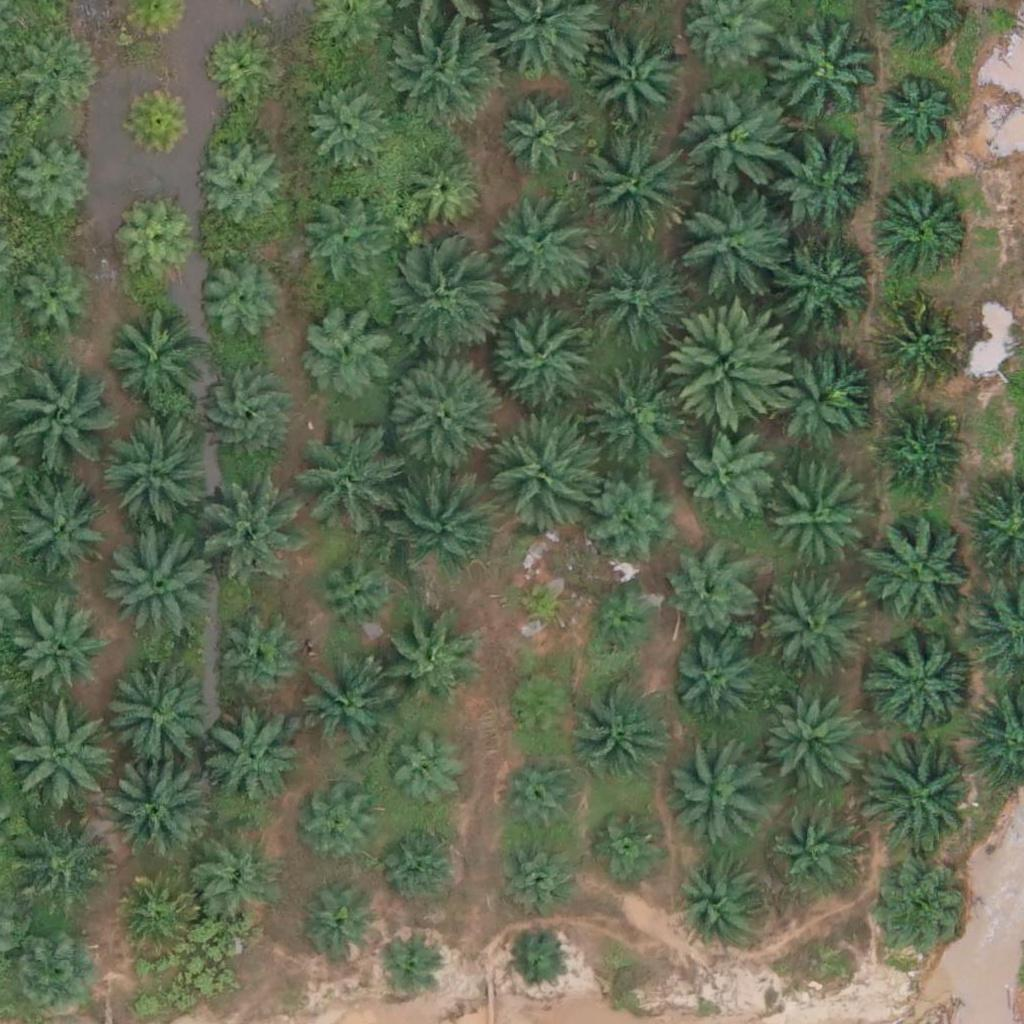Kelapa_Sawit: (671, 304, 796, 430), (673, 182, 786, 296), (97, 525, 210, 639), (863, 514, 976, 627), (867, 625, 980, 738), (575, 130, 688, 243), (579, 242, 692, 355), (486, 297, 599, 410), (383, 358, 496, 471), (102, 752, 215, 865), (94, 656, 207, 769), (767, 13, 880, 126), (390, 15, 503, 128), (680, 88, 793, 201), (383, 460, 495, 574), (100, 421, 212, 535), (2, 698, 114, 812), (866, 737, 978, 850), (479, 198, 591, 311), (484, 415, 596, 528), (381, 249, 493, 362), (194, 466, 306, 579), (873, 175, 973, 276), (869, 864, 969, 965), (780, 234, 880, 335), (766, 471, 866, 572), (761, 583, 861, 684), (757, 691, 857, 792), (583, 363, 683, 464), (585, 464, 685, 565), (377, 612, 477, 713), (291, 661, 391, 762), (291, 433, 391, 534), (201, 709, 301, 810), (104, 309, 204, 410), (7, 477, 107, 578), (9, 814, 109, 915), (586, 27, 686, 128), (576, 678, 676, 779), (775, 141, 875, 241), (765, 341, 865, 441), (668, 743, 768, 843), (298, 299, 398, 399), (196, 367, 296, 467), (872, 299, 960, 387), (665, 551, 753, 639), (490, 834, 578, 922), (109, 872, 197, 960), (398, 148, 486, 236), (312, 550, 400, 638), (193, 141, 281, 229), (19, 610, 107, 698), (15, 39, 103, 127), (871, 68, 959, 156), (498, 93, 586, 181), (668, 638, 755, 727), (298, 198, 385, 287), (875, 407, 962, 495), (775, 809, 862, 897), (677, 858, 764, 946), (683, 431, 770, 519), (500, 753, 587, 841), (195, 257, 282, 345), (217, 619, 304, 707), (194, 839, 281, 927), (11, 137, 98, 225), (8, 261, 95, 349), (10, 931, 97, 1019), (305, 81, 392, 169), (200, 27, 275, 103), (383, 736, 458, 812), (385, 824, 460, 900), (584, 584, 659, 660), (503, 671, 578, 747), (117, 207, 192, 283), (122, 80, 197, 156), (591, 806, 666, 881), (303, 791, 378, 866), (301, 891, 376, 966), (374, 932, 437, 995), (507, 928, 569, 991), (510, 572, 572, 635)
